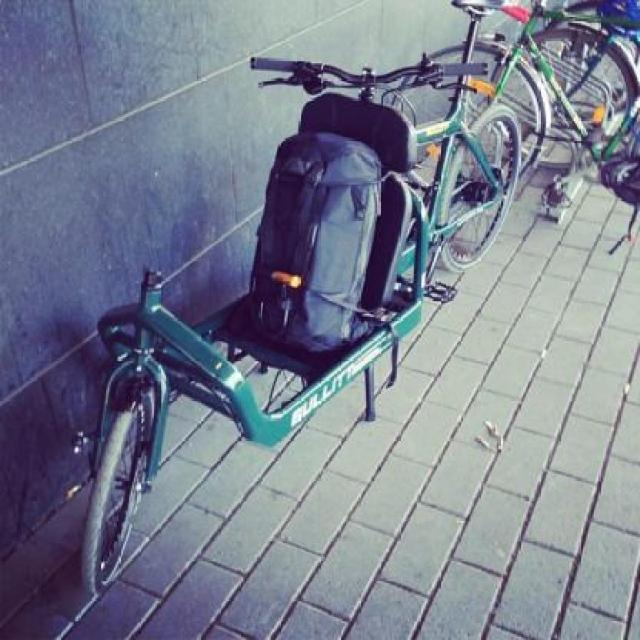backpack: (246, 128, 392, 358)
